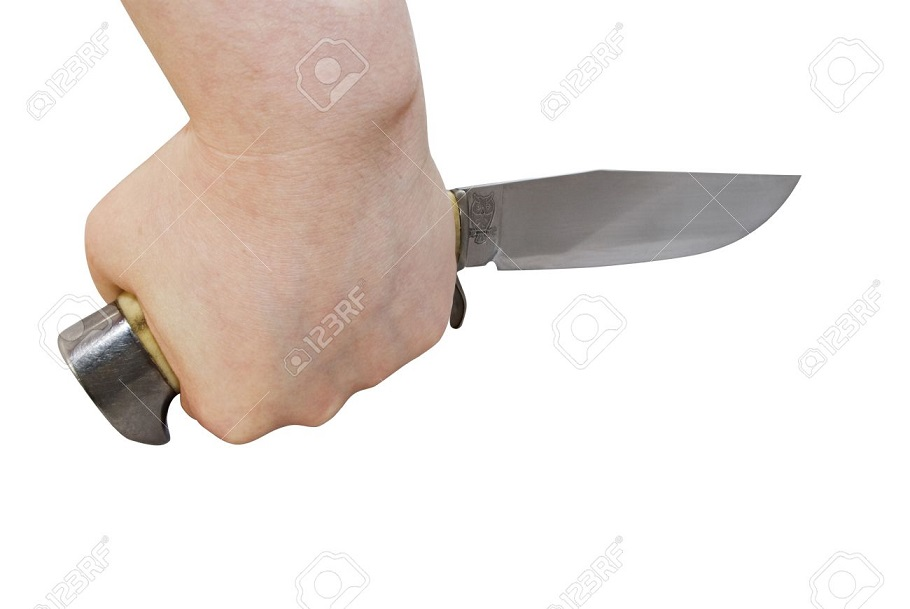knife: (345, 157, 834, 384)
